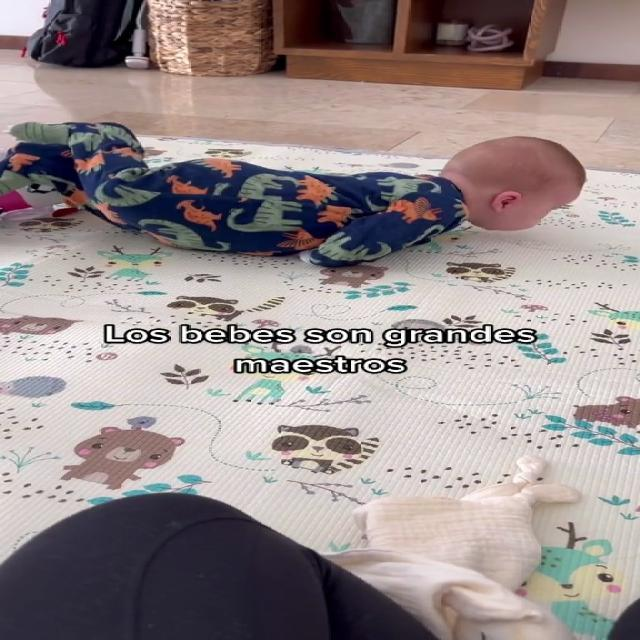baby: (0, 99, 596, 280)
